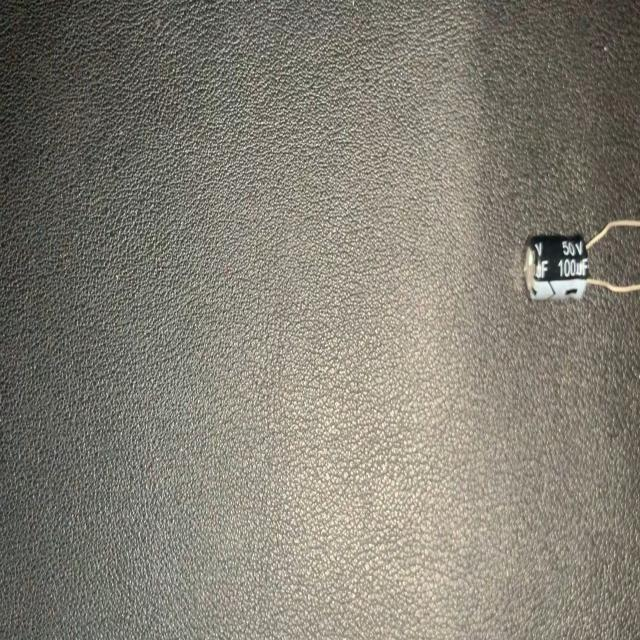capacitor: (516, 211, 640, 308)
